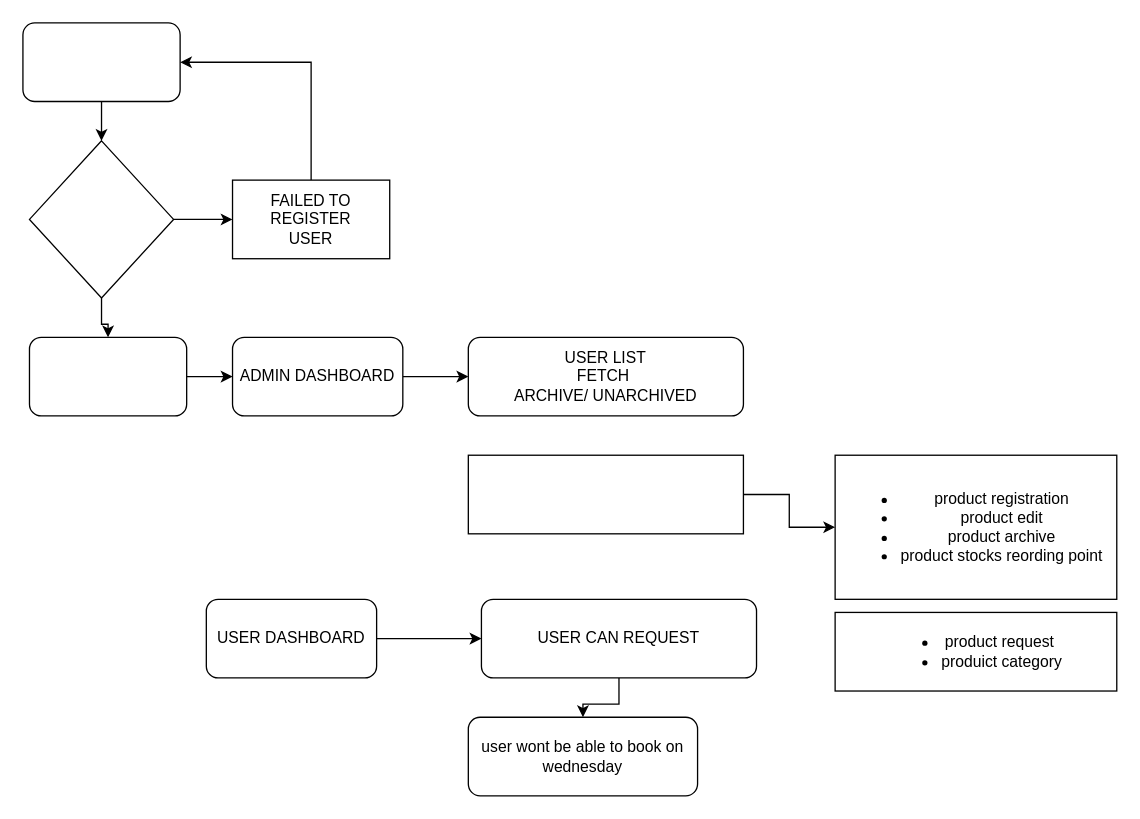
The diagram is 1140 pixels wide and 819 high, and some of its shapes have lost their labels. Each missing label, with the centre of its shape:
"LOGIN" belongs at (x=107, y=376).
"PRODUCT REGISTRATION" belongs at (x=605, y=494).
"USER REGISTRATION" belongs at (x=101, y=62).
"USER/ADMIN LOGINN" belongs at (x=101, y=219).
